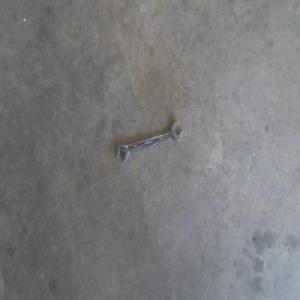Wrench: (115, 120, 185, 165)
